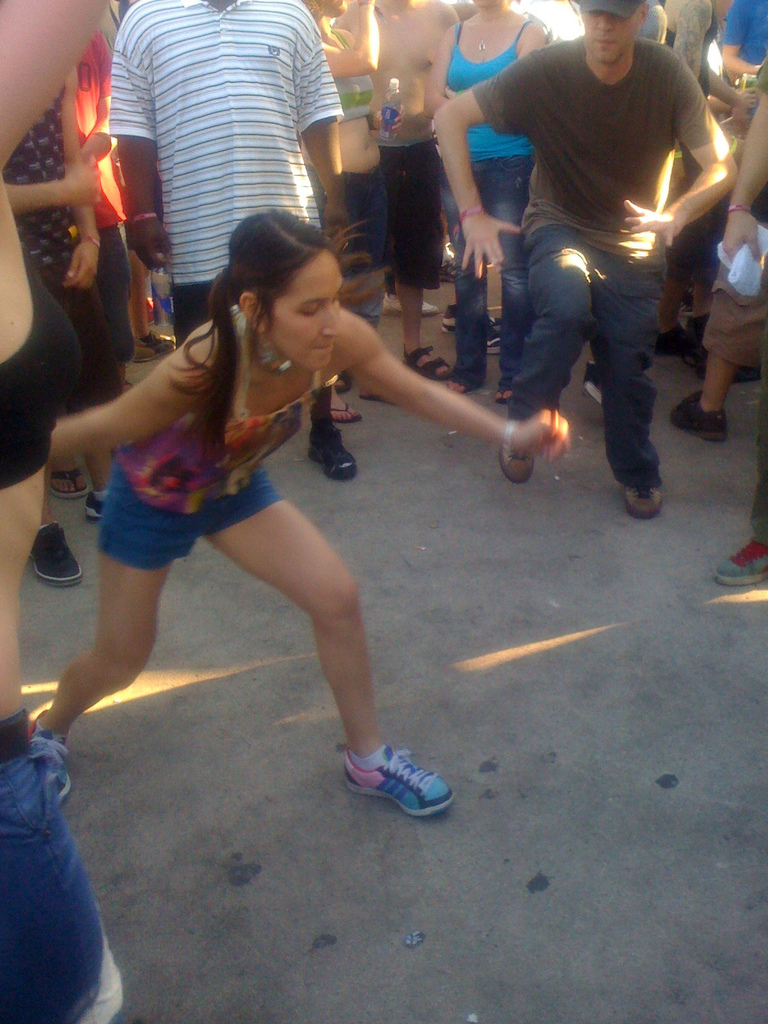Human_hand: (500, 377, 577, 464), (460, 207, 525, 281), (623, 197, 685, 250), (127, 212, 173, 274), (723, 204, 763, 267), (61, 150, 101, 212), (60, 241, 100, 293), (322, 202, 353, 236), (374, 104, 404, 138), (735, 87, 759, 115)
